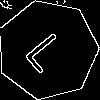L: (23, 25, 77, 75)
